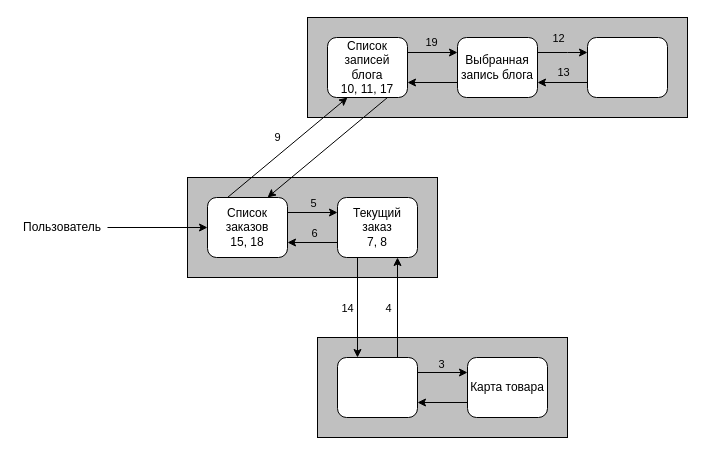
Image size: 705x455. Some labels were removed from this diagram. The centre of each missing label's shape, as x and y in pixels:
"Редактор записи блога" goes at (x=627, y=67).
"Список товаров 1, 2, 16" goes at (x=377, y=387).
